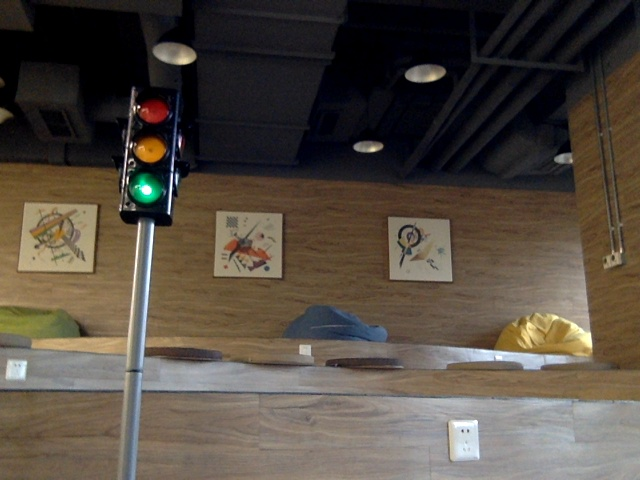green: (128, 90, 168, 205)
